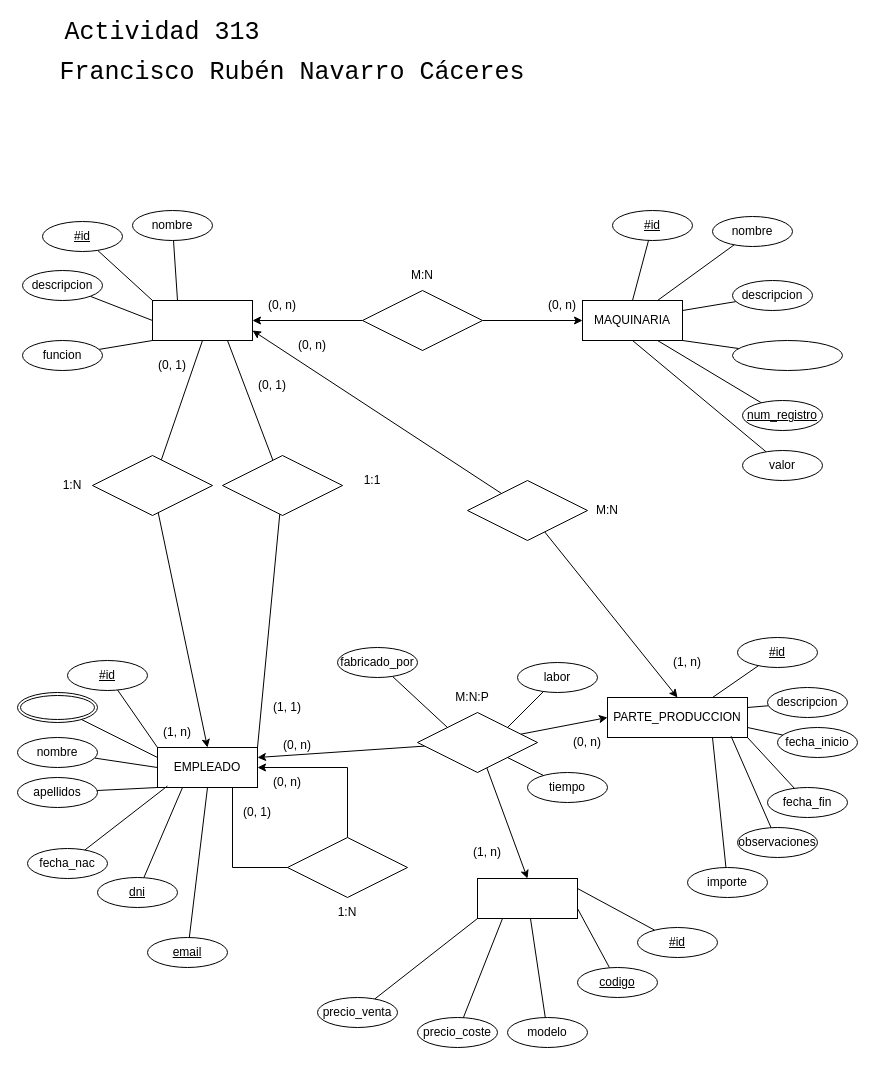
The diagram is 875 pixels wide and 1065 high, and some of its shapes have lost their labels. Here are the shapes that lost their labels. From the top down, the box of each, then its label:
(152, 300, 252, 340): TALLER
(362, 290, 482, 350): tiene
(732, 340, 842, 370): fecha_adquisicion
(92, 454, 212, 516): asignado
(222, 454, 342, 516): es jefe
(466, 480, 588, 540): realiza
(16, 692, 98, 722): telefono
(416, 712, 538, 772): Relationship
(286, 836, 408, 898): supervisa
(476, 878, 578, 918): ARTICULO
